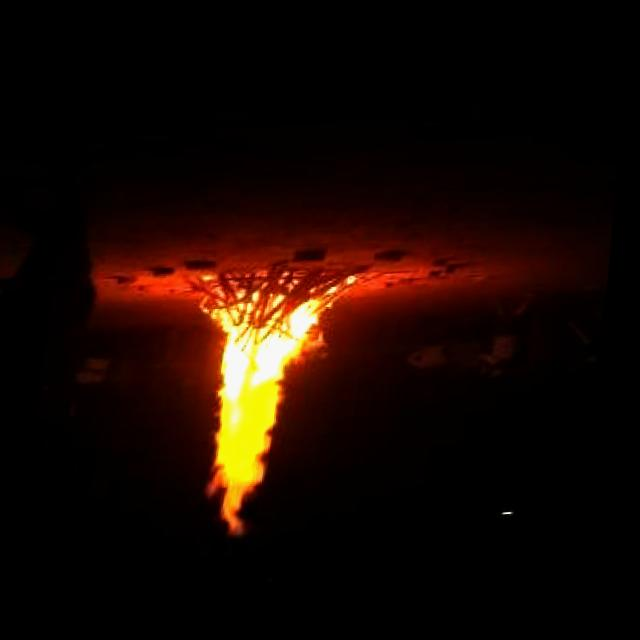Fire: (181, 308, 336, 545)
